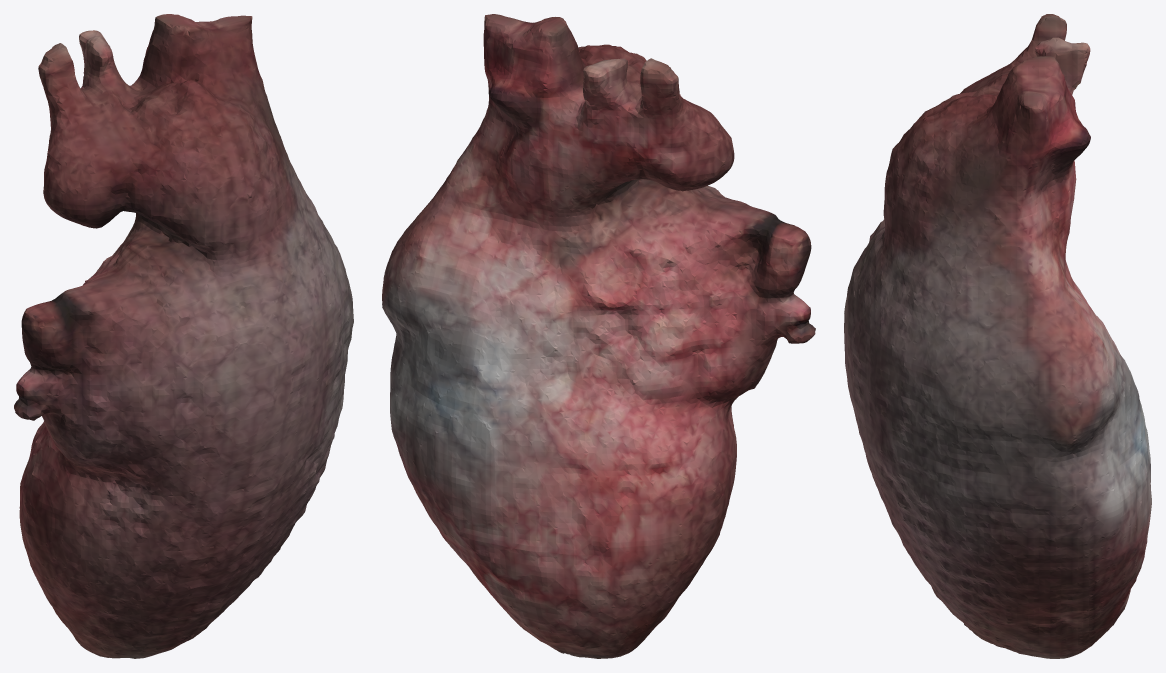
File: unhealthy_heart.glb
The picture shows the model from 3 angles, left to right: view 1: azimuth 30°, elevation 25°; view 2: azimuth 150°, elevation 25°; view 3: azimuth 270°, elevation 25°; orthographic projection. The views are drawn at different scales.
Visible parts, largest first — view 1: world; view 2: world; view 3: world.
Part boxes in pixels (bbox=[...]): world: bbox=[14, 14, 353, 658]; world: bbox=[382, 14, 815, 658]; world: bbox=[844, 14, 1151, 658].
Size of the model in its own units: 1.23 by 1.99 by 0.9128.
